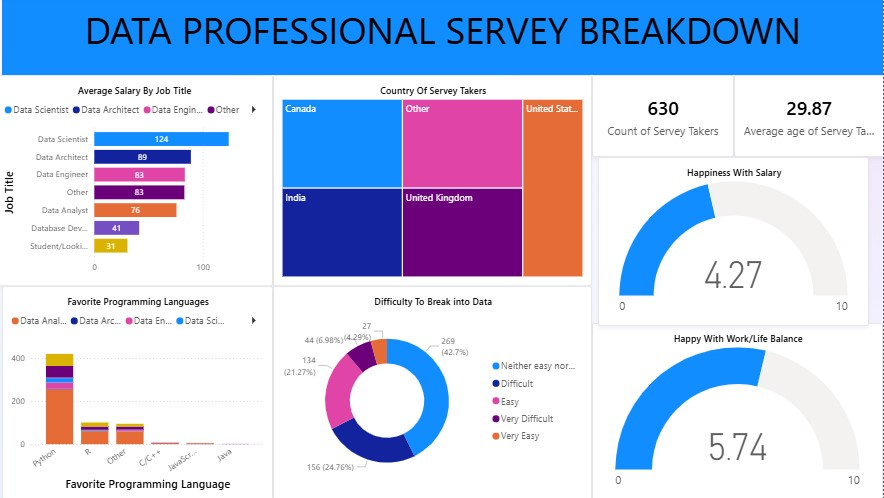

This screenshot's page, from the dashboard's own definition file:
{"tool":"powerbi","page":{"name":"Page 1","canvas":[1280,720],"ordinal":0},"visuals":[{"type":"textbox","box":[10.1,0,1269.9,107.5],"z":0},{"type":"card","fields":{"Values":["Count(Data Professional Survey.Unique ID)"]},"box":[859.7,108,204.5,118.1],"z":1000},{"type":"card","fields":{"Values":["Avg(Data Professional Survey.Q10 - Current Age)"]},"box":[1064.2,108,216,118.1],"z":2000},{"type":"barChart","title":"Average Salary By Job Title","fields":{"Category":["Data Professional Survey.Q1 - Which Title Best Fits your Current Role?.1"],"Y":["Avg(Data Professional Survey.Average Salary)"],"Series":["Data Professional Survey.Q1 - Which Title Best Fits your Current Role?.1"]},"box":[0,108,400.3,303.8],"z":3000},{"type":"columnChart","title":"Favorite Programming Languages","fields":{"Category":["Data Professional Survey.Q5 - Favorite Programming Language.1"],"Y":["CountNonNull(Data Professional Survey.Unique ID)"],"Series":["Data Professional Survey.Q1 - Which Title Best Fits your Current Role?.1"]},"box":[10.1,411.8,390.2,308.2],"z":4000},{"type":"treemap","title":"Country Of Servey Takers","fields":{"Group":["Data Professional Survey.Q11 - Which Country do you live in?.1"],"Values":["Count(Data Professional Survey.Q11 - Which Country do you live in?.1)"]},"box":[400.3,108,459.4,303.8],"z":5000},{"type":"gauge","title":"Happy With Work/Life Balance","fields":{"Y":["Avg(Data Professional Survey.Q6 - How Happy are you in your Current Position with the following? (Work/Life Balance))"],"MinValue":["Min(Data Professional Survey.Q6 - How Happy are you in your Current Position with the following? (Work/Life Balance))1"],"MaxValue":["Max(Data Professional Survey.Q6 - How Happy are you in your Current Position with the following? (Work/Life Balance))2"]},"box":[859.7,465.1,419,254.9],"z":6000},{"type":"gauge","title":"Happiness With Salary","fields":{"Y":["Avg(Data Professional Survey.Q6 - How Happy are you in your Current Position with the following? (Salary))"],"MinValue":["Min(Data Professional Survey.Q6 - How Happy are you in your Current Position with the following? (Salary))"],"MaxValue":["Max(Data Professional Survey.Q6 - How Happy are you in your Current Position with the following? (Salary))1"]},"box":[868.3,226.1,390.2,243.4],"z":7000},{"type":"donutChart","title":"Difficulty To Break into Data","fields":{"Category":["Data Professional Survey.Q7 - How difficult was it for you to break into Data?"],"Y":["CountNonNull(Data Professional Survey.Q7 - How difficult was it for you to break into Data?)"]},"box":[400.3,411.8,459.4,308.2],"z":8000}]}

Visuals, with their boxes in screenshot pixels (x1, y1, x2, y2), scaled from the page's 1280x720 canvas onto the 884x498 screenshot:
textbox: bbox=[7, 0, 883, 74]
card - Count(Data Professional Survey.Unique ID): bbox=[594, 75, 735, 156]
card - Avg(Data Professional Survey.Q10 - Current Age): bbox=[735, 75, 883, 156]
"Average Salary By Job Title" barChart: bbox=[0, 75, 276, 285]
"Favorite Programming Languages" columnChart: bbox=[7, 285, 276, 497]
"Country Of Servey Takers" treemap: bbox=[276, 75, 594, 285]
"Happy With Work/Life Balance" gauge: bbox=[594, 322, 883, 497]
"Happiness With Salary" gauge: bbox=[600, 156, 869, 325]
"Difficulty To Break into Data" donutChart: bbox=[276, 285, 594, 497]
